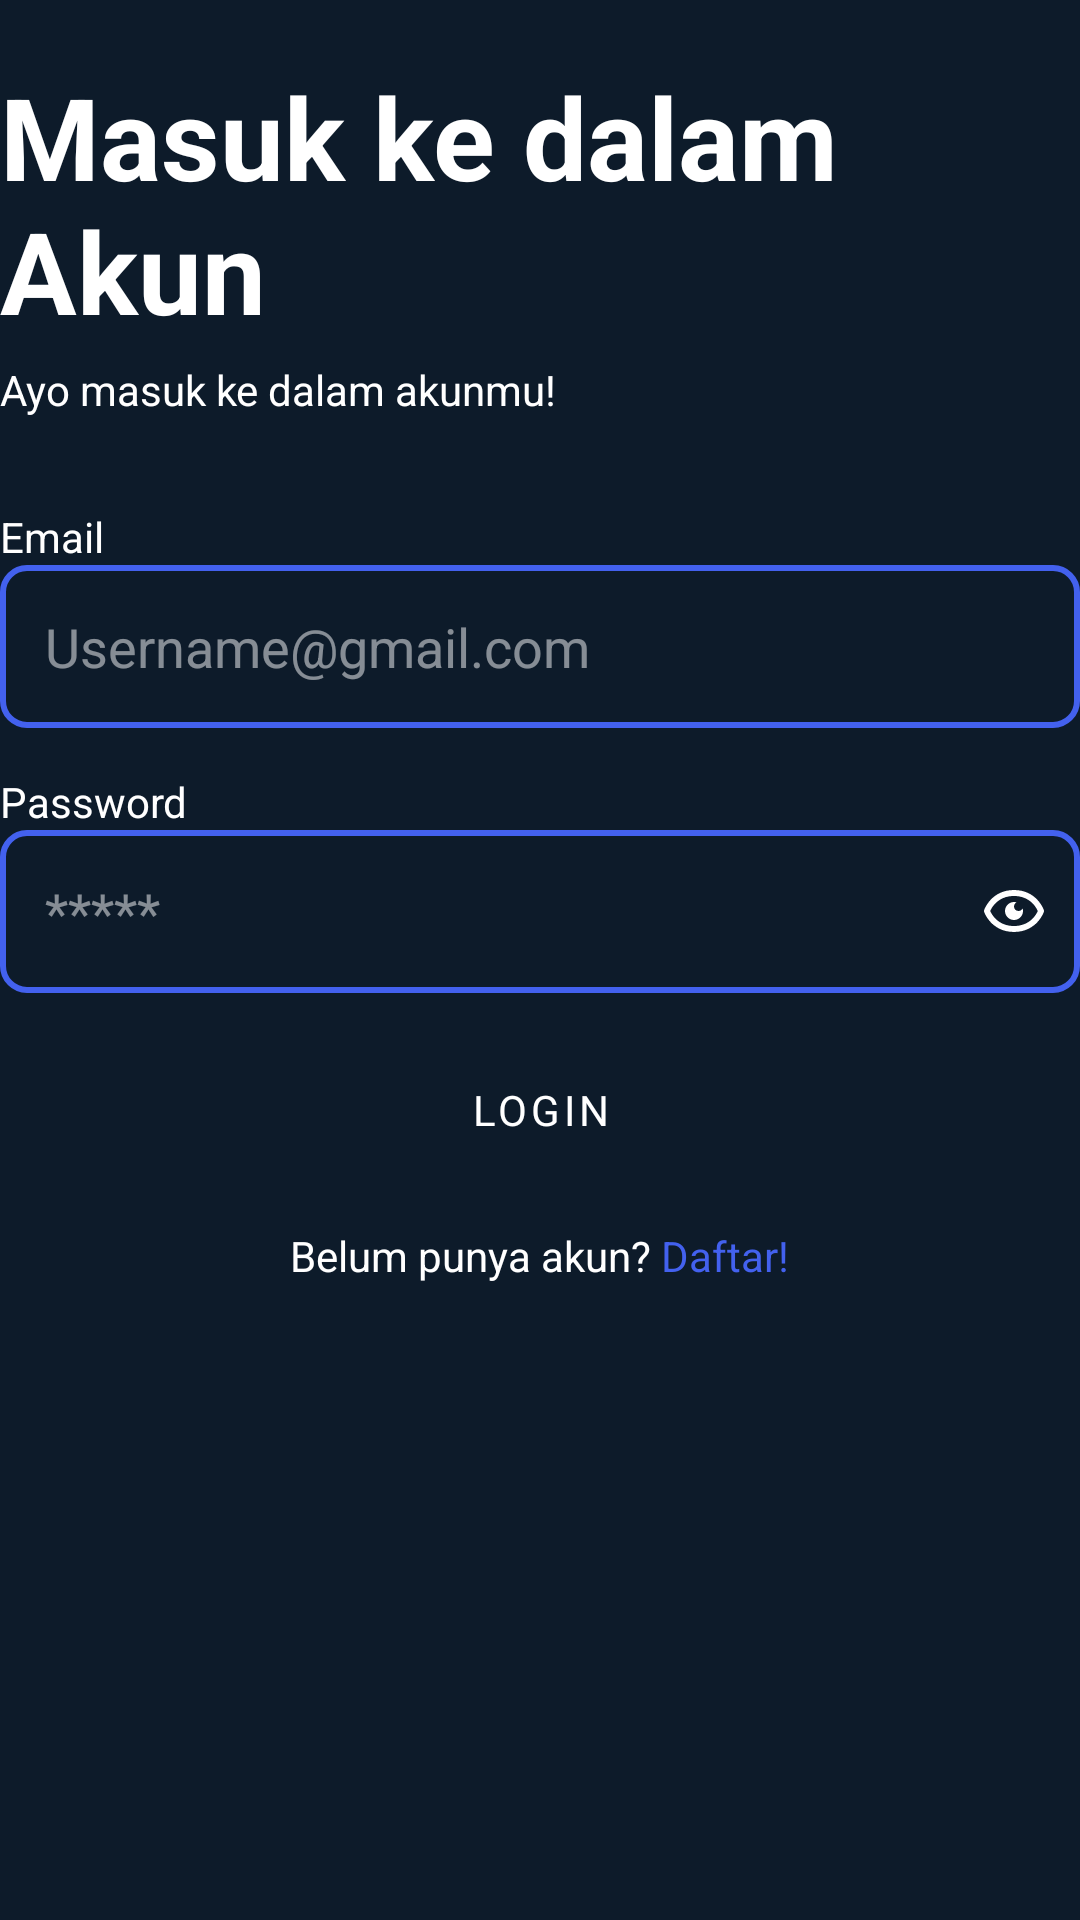

Where icons sit on this 1080px×1920px app screen, as (x1, y1, x2, y2):
eye: (984, 890, 1044, 932)
